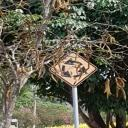Rotatoria: (48, 50, 100, 88)
